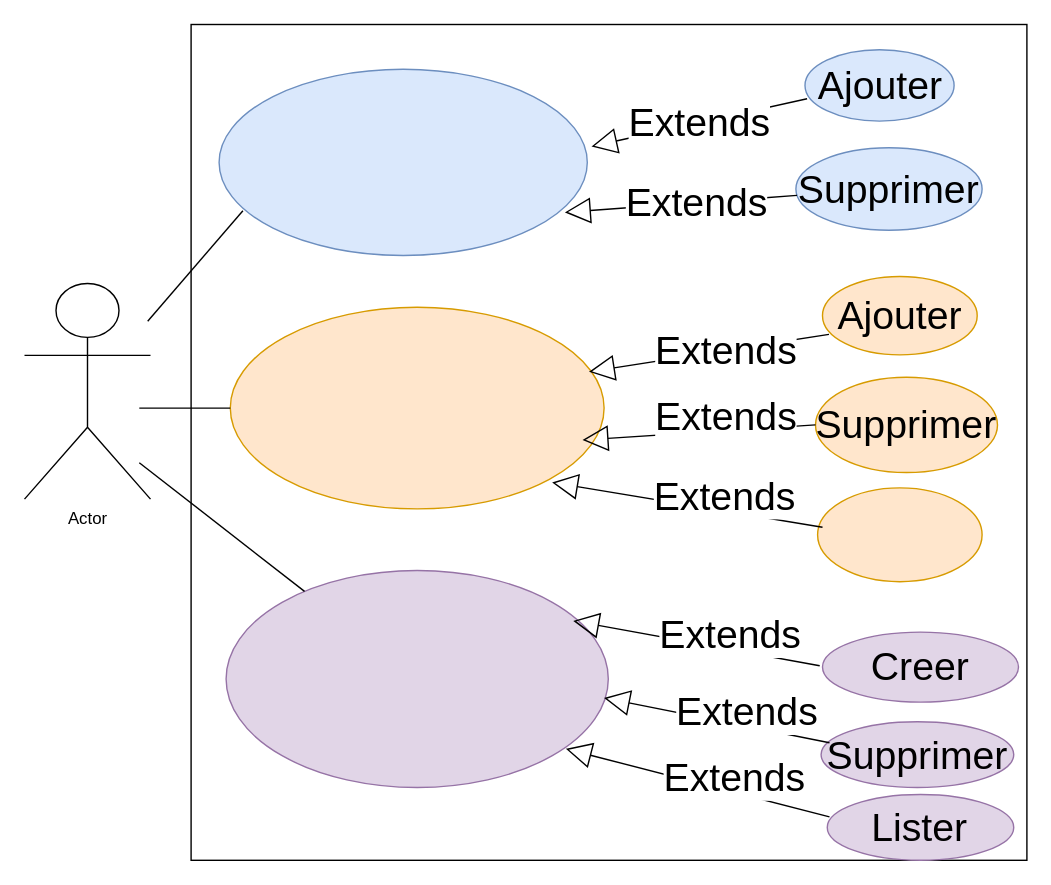
Image size: 1051x885. Some labels were removed from this diagram. Here are the shapes that lost their labels. From the top down, the centre of each, then its label:
At (402,161): "Gestion de liste".
At (416,407): "Gestion de Postulant".
At (899,534): "Modifier".
At (416,678): "Gestion deTirage".
